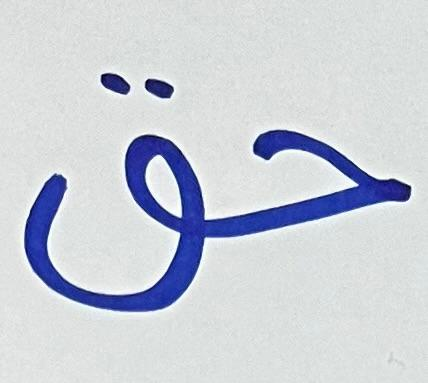hah: (225, 96, 413, 243)
qaf: (23, 59, 219, 318)
